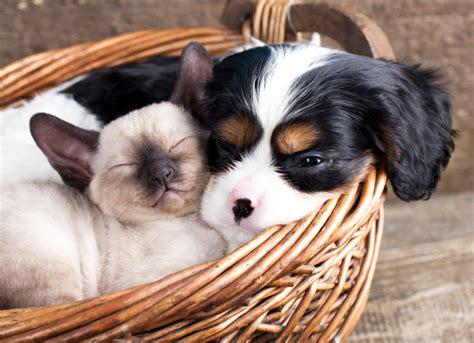cat: (1, 42, 225, 306)
dog: (202, 43, 452, 243)
